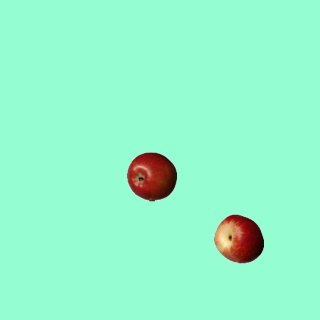Apple Braeburn: (126, 151, 176, 201)
Nectarine: (213, 213, 263, 263)
